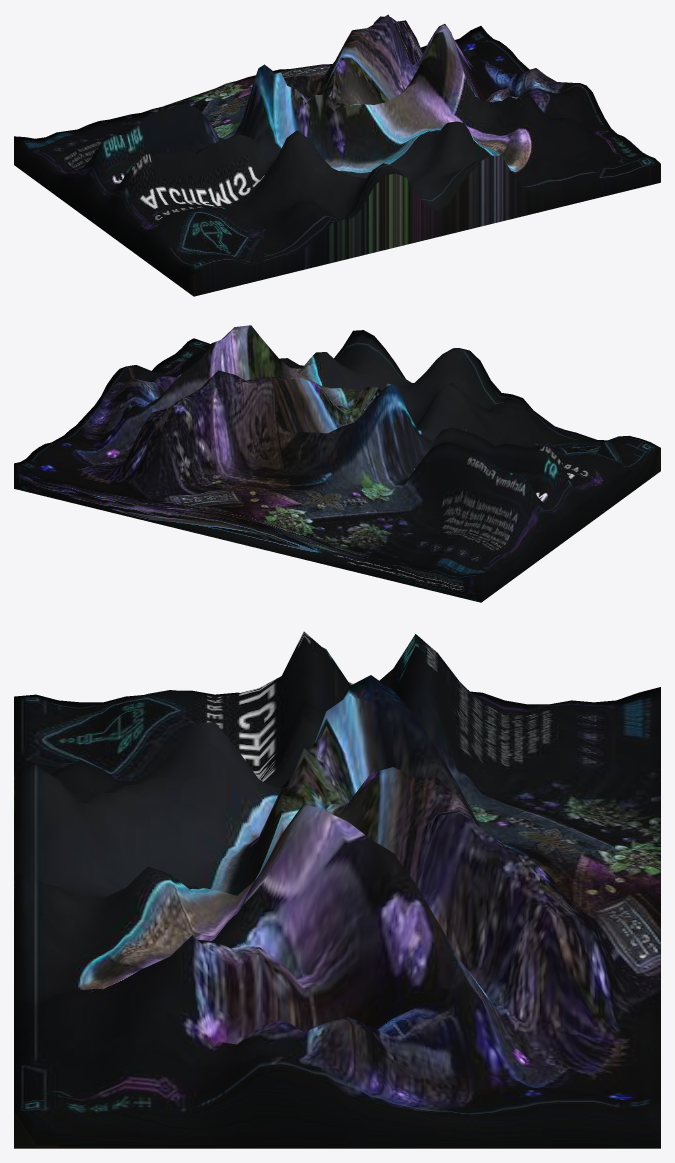
File: CAREER_16_Tool_01_Mortar.glb
3 views of the same model, one above another, from view 1: azimuth 30°, elevation 25°; view 2: azimuth 150°, elevation 25°; view 3: azimuth 270°, elevation 25° (orthographic). The views are drawn at different scales.
Visible parts, largest first — view 1: CAREER_16_Tool_01_Mortar; view 2: CAREER_16_Tool_01_Mortar; view 3: CAREER_16_Tool_01_Mortar.
Boxes of the visible parts, x1,y1,x2,y2 form: CAREER_16_Tool_01_Mortar: (14, 14, 660, 296); CAREER_16_Tool_01_Mortar: (14, 325, 660, 602); CAREER_16_Tool_01_Mortar: (14, 631, 660, 1148).
Bounding box in the file's own units: 2 × 0.51 × 1.33.
1 material, 1 textured.
